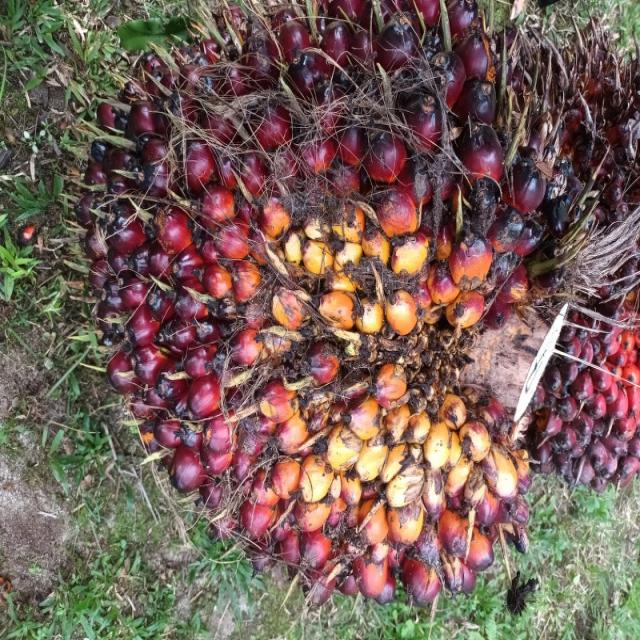fraksi 1: (78, 27, 583, 631)
